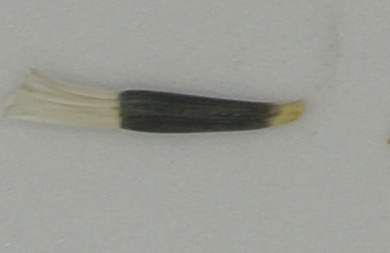เมล็ดดีติดกัน: (4, 66, 310, 136)
